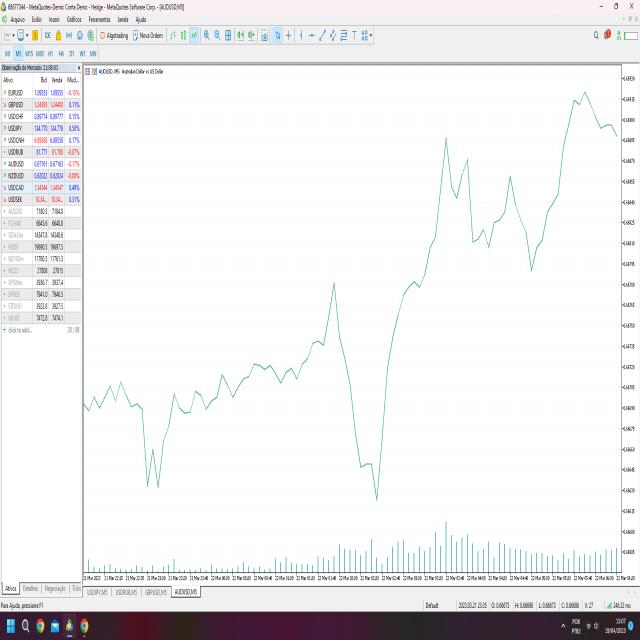fundo_duplo: (140, 418, 174, 507)
topo_duplo: (436, 135, 478, 255)
